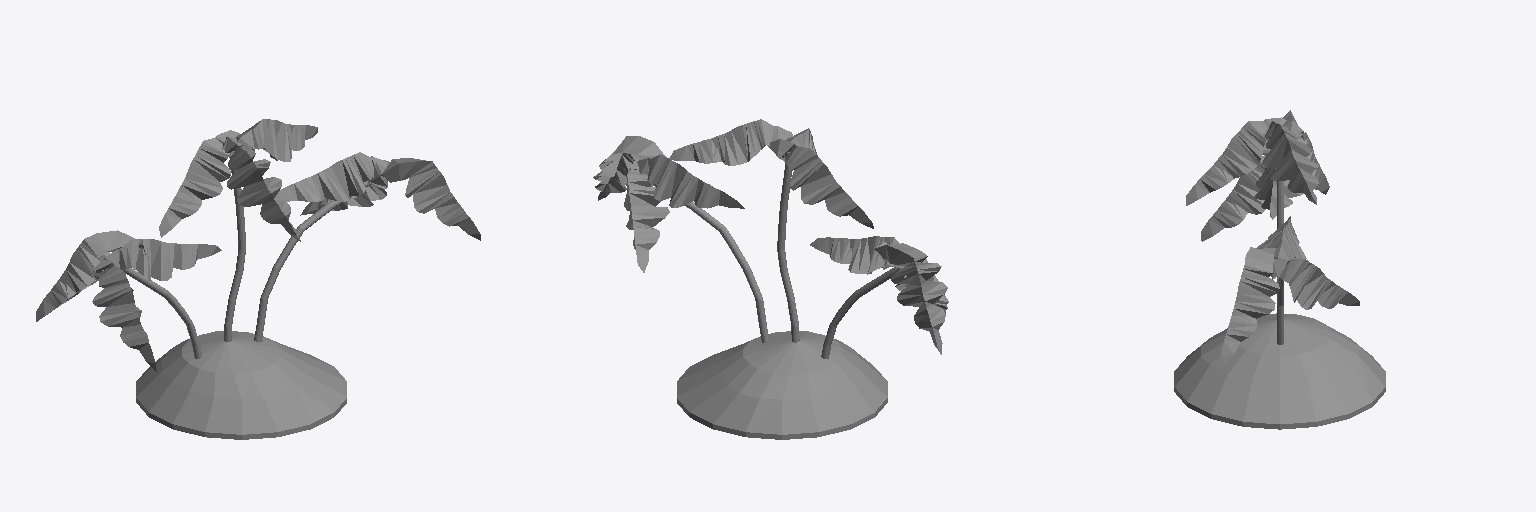
The model's file is Isla.obj.
The picture shows the model from 3 angles: view 1: azimuth 30°, elevation 25°; view 2: azimuth 150°, elevation 25°; view 3: azimuth 270°, elevation 25°; orthographic projection.
Parts seen in each view (by area): view 1: Sand, Tree003, Tree001, Tree002; view 2: Sand, Tree002, Tree001, Tree003; view 3: Sand, Tree002, Tree001, Tree003.
Part boxes in pixels (x1,y1,x2,y2): Sand: (136, 331, 346, 439); Tree003: (36, 230, 221, 371); Tree001: (159, 119, 317, 341); Tree002: (254, 152, 480, 341); Sand: (677, 331, 887, 439); Tree002: (593, 136, 769, 342); Tree001: (669, 119, 873, 342); Tree003: (810, 236, 948, 358); Sand: (1174, 313, 1385, 429); Tree002: (1221, 216, 1359, 364); Tree001: (1186, 110, 1319, 228); Tree003: (1201, 132, 1329, 241).
Bounding box in the file's own units: 18.7 × 12.26 × 8.67.